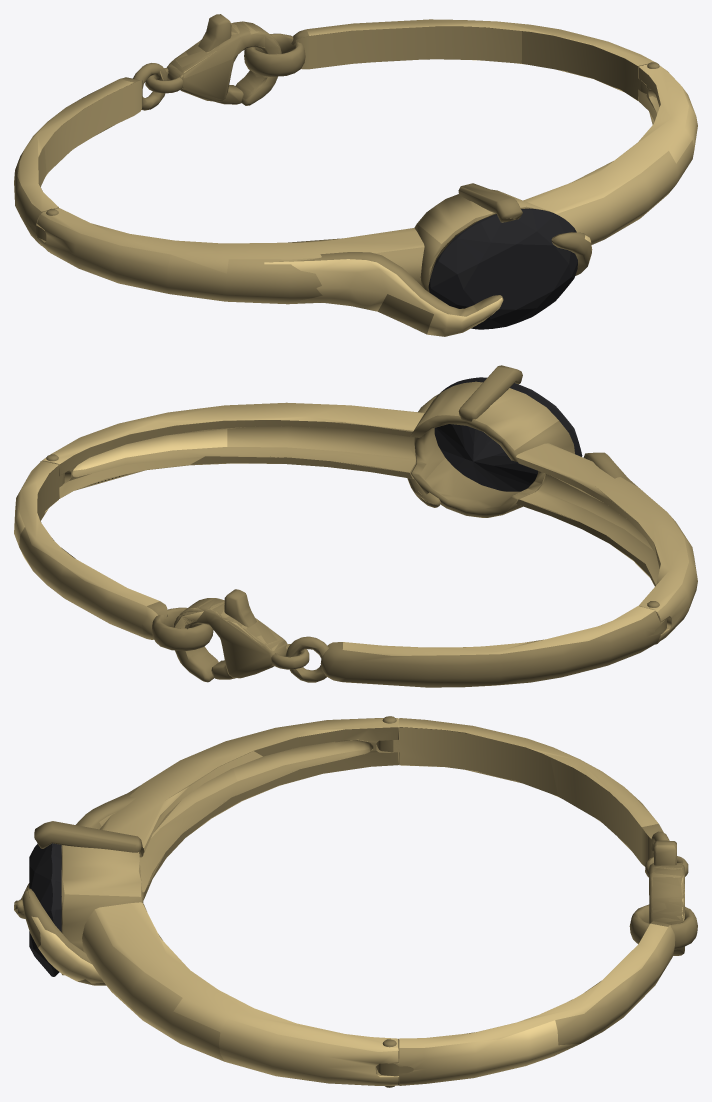
Rendered from bracelet.glb.
3 renders of one model, top to bottom at view 1: azimuth 30°, elevation 25°; view 2: azimuth 150°, elevation 25°; view 3: azimuth 270°, elevation 25°, orthographic. The views are drawn at different scales.
Visible parts, largest first — view 1: Band, DiamondGem_Topaz; view 2: Band, DiamondGem_Topaz; view 3: Band, DiamondGem_Topaz.
Boxes of the visible parts, x1,y1,x2,y2 form: Band: [14, 14, 697, 336]; DiamondGem_Topaz: [428, 208, 577, 329]; Band: [14, 365, 697, 687]; DiamondGem_Topaz: [434, 377, 582, 491]; Band: [14, 716, 697, 1087]; DiamondGem_Topaz: [29, 843, 61, 976].
Size of the model in its own units: 0.0586 by 0.0113 by 0.0503.
2 materials, 1 textured.
